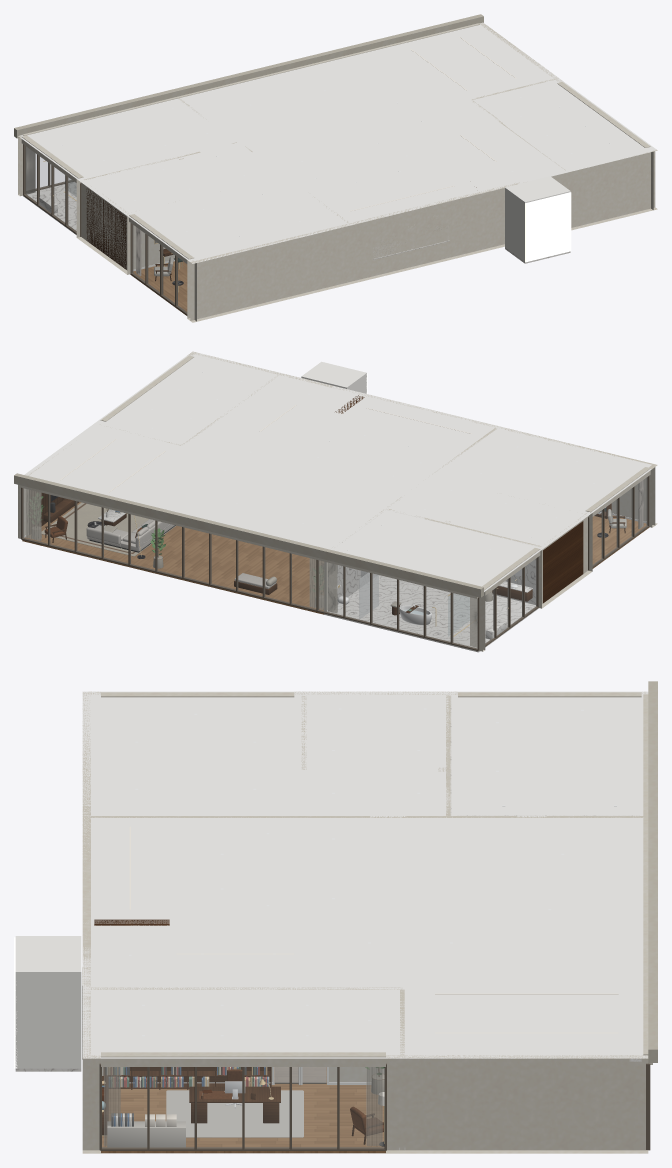
Rendered from apartment.glb.
3 renders of one model, top to bottom at view 1: azimuth 30°, elevation 25°; view 2: azimuth 150°, elevation 25°; view 3: azimuth 270°, elevation 25°, orthographic. The views are drawn at different scales.
Parts seen in each view (by area): view 1: ceiling, wall_south_a, wall_south_b, facade_band, wall_west_b, lobby_back, glaze_w_bed_glass, glaze_w_bath_glass, his_wardrobe_carcass, glaze_n_head, lobby_side_-1, floor_oak_suite (+9 smaller); view 2: ceiling, glaze_n_glass, floor_oak_living, floor_bath, facade_band, glaze_n_mullions, glaze_w_bed_glass, his_wardrobe_carcass, glaze_w_bath_glass, rug_living, wall_south_a, bath_cladding (+16 smaller); view 3: ceiling, wall_east_b, glaze_e_study_glass, floor_oak_study, lobby_side_1, glaze_e_study_head, rug_study, facade_band, pelmet, glaze_e_study_mullions, lobby_ceiling, glaze_n_head (+12 smaller).
Part boxes in pixels (bbox=[...]): ceiling: bbox=[20, 22, 656, 263]; wall_south_a: bbox=[190, 183, 515, 322]; wall_south_b: bbox=[551, 150, 656, 230]; facade_band: bbox=[14, 14, 483, 138]; wall_west_b: bbox=[76, 179, 130, 274]; lobby_back: bbox=[525, 192, 571, 262]; glaze_w_bed_glass: bbox=[132, 225, 186, 312]; glaze_w_bath_glass: bbox=[25, 146, 76, 230]; his_wardrobe_carcass: bbox=[86, 188, 126, 269]; glaze_n_head: bbox=[22, 23, 479, 135]; lobby_side_-1: bbox=[505, 189, 524, 261]; floor_oak_suite: bbox=[130, 261, 187, 315]; ceiling: bbox=[24, 352, 651, 591]; glaze_n_glass: bbox=[23, 488, 477, 648]; floor_oak_living: bbox=[106, 525, 324, 614]; floor_bath: bbox=[324, 575, 538, 652]; facade_band: bbox=[14, 473, 483, 597]; glaze_n_mullions: bbox=[21, 487, 479, 650]; glaze_w_bed_glass: bbox=[593, 477, 647, 564]; his_wardrobe_carcass: bbox=[543, 521, 583, 603]; glaze_w_bath_glass: bbox=[485, 558, 536, 643]; rug_living: bbox=[41, 502, 175, 556]; wall_south_a: bbox=[333, 386, 655, 525]; bath_cladding: bbox=[328, 509, 536, 604]; ceiling: bbox=[82, 691, 648, 1058]; wall_east_b: bbox=[386, 1055, 648, 1153]; glaze_e_study_glass: bbox=[102, 1067, 384, 1147]; floor_oak_study: bbox=[101, 1084, 385, 1153]; lobby_side_1: bbox=[15, 973, 81, 1068]; glaze_e_study_head: bbox=[101, 1052, 385, 1066]; rug_study: bbox=[166, 1090, 303, 1137]; facade_band: bbox=[648, 681, 657, 1062]; pelmet: bbox=[629, 698, 641, 1061]; glaze_e_study_mullions: bbox=[99, 1063, 386, 1150]; lobby_ceiling: bbox=[15, 936, 81, 974]; glaze_n_head: bbox=[643, 694, 652, 1064].
Bounding box in the file's own units: 26.6 × 3.62 × 19.65.
Materials: 147 (55 with a texture image).
